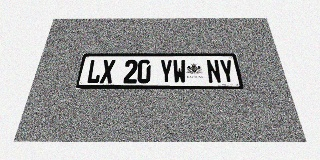0: (137, 60, 151, 83)
2: (123, 60, 138, 83)
L: (86, 60, 103, 83)
N: (206, 60, 222, 83)
W: (173, 60, 187, 83)
X: (99, 60, 115, 83)
Y: (219, 60, 236, 83), (160, 60, 173, 83)
